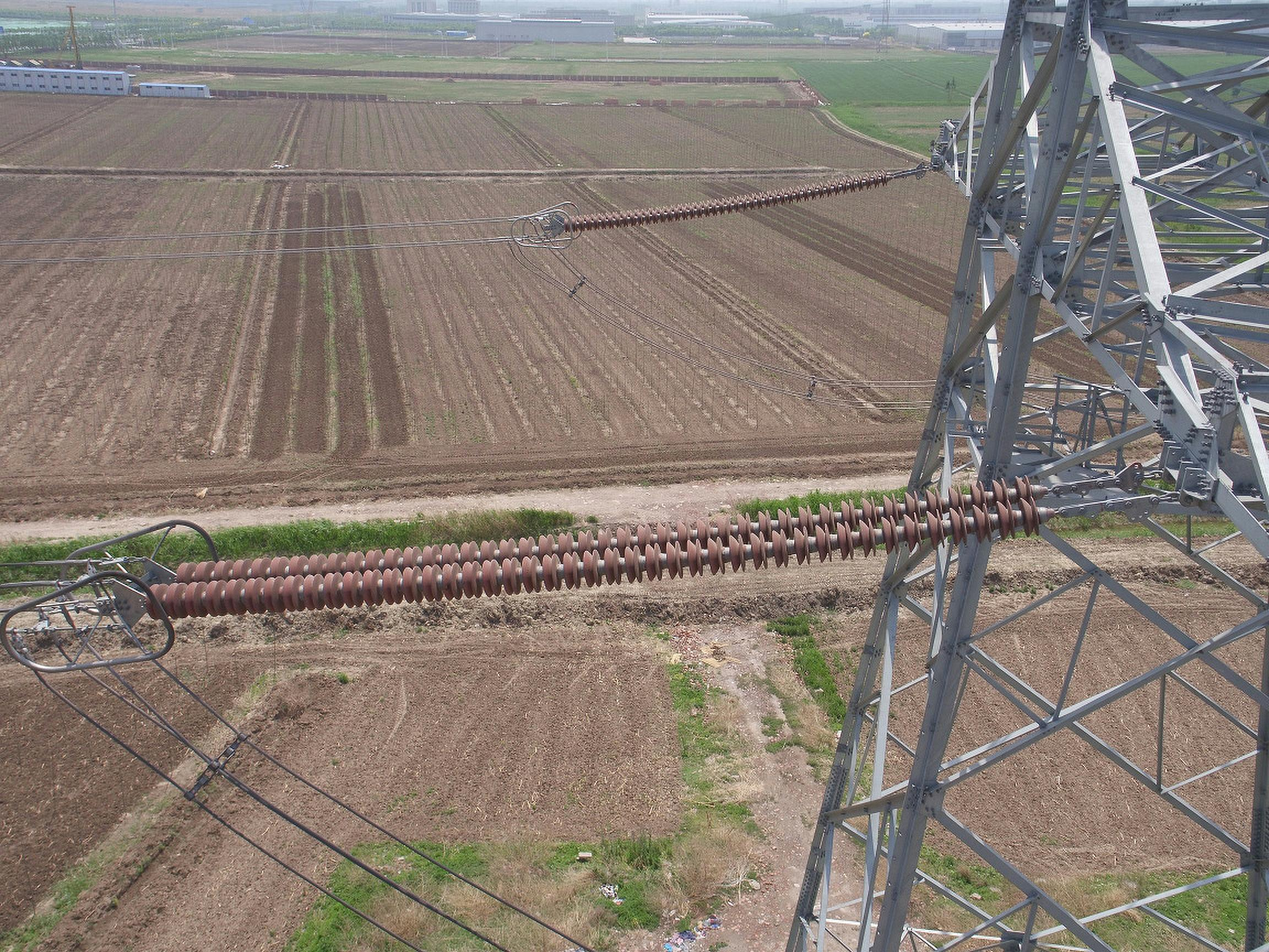insulator: (140, 471, 1043, 622), (562, 167, 891, 236)
